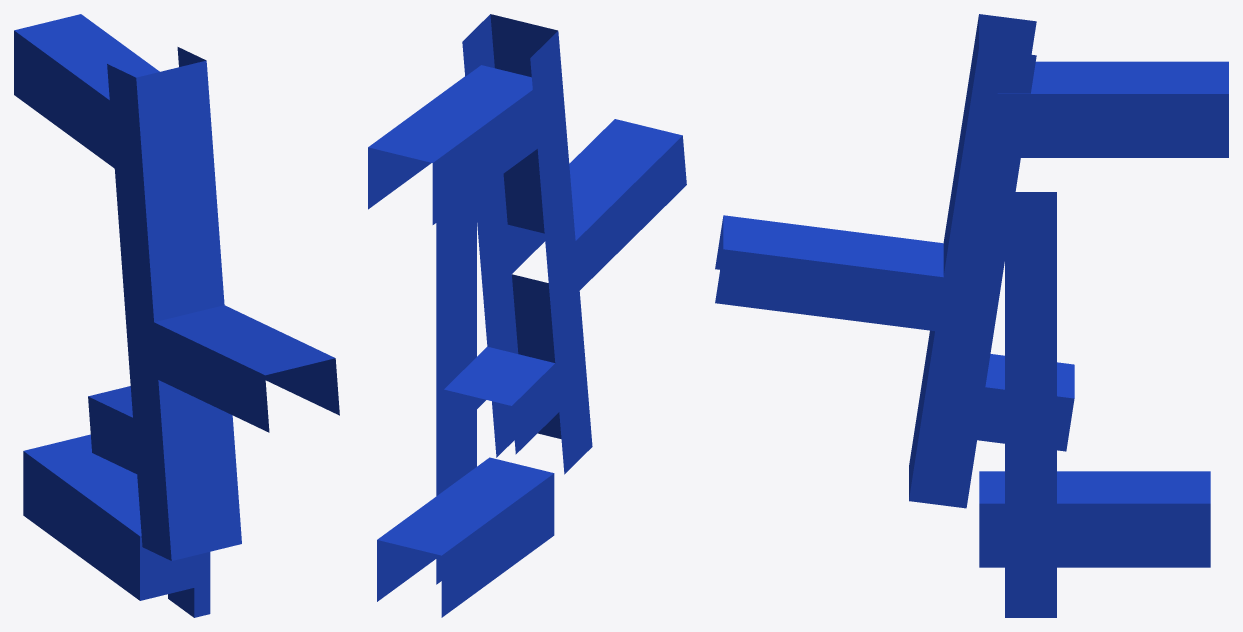
The model's file is BenchLeg.fbx.
3 renders of one model, left to right at view 1: azimuth 30°, elevation 25°; view 2: azimuth 150°, elevation 25°; view 3: azimuth 270°, elevation 25°, orthographic. The views are drawn at different scales.
Visible parts, largest first — view 1: BlueSupport_main, BlueSupport_bottom, BlueSupport_bottom1, BlueSupport_side; view 2: BlueSupport_main, BlueSupport_bottom, BlueSupport_bottom1, BlueSupport_side; view 3: BlueSupport_main, BlueSupport_side, BlueSupport_bottom1, BlueSupport_bottom.
Part boxes in pixels (x1,y1,x2,y2): BlueSupport_main: (88, 47, 339, 560); BlueSupport_bottom: (23, 434, 207, 600); BlueSupport_bottom1: (14, 14, 159, 168); BlueSupport_side: (168, 552, 210, 617); BlueSupport_main: (444, 14, 686, 474); BlueSupport_bottom: (377, 457, 554, 617); BlueSupport_bottom1: (368, 65, 537, 224); BlueSupport_side: (436, 195, 476, 584); BlueSupport_main: (715, 14, 1074, 508); BlueSupport_side: (1005, 192, 1056, 617); BlueSupport_bottom1: (997, 61, 1228, 157); BlueSupport_bottom: (979, 471, 1210, 567).
Bounding box in the file's own units: 0.1247 × 0.7747 × 0.6423.
